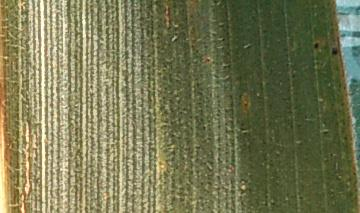tarspot: (310, 38, 323, 52), (328, 46, 341, 56)
